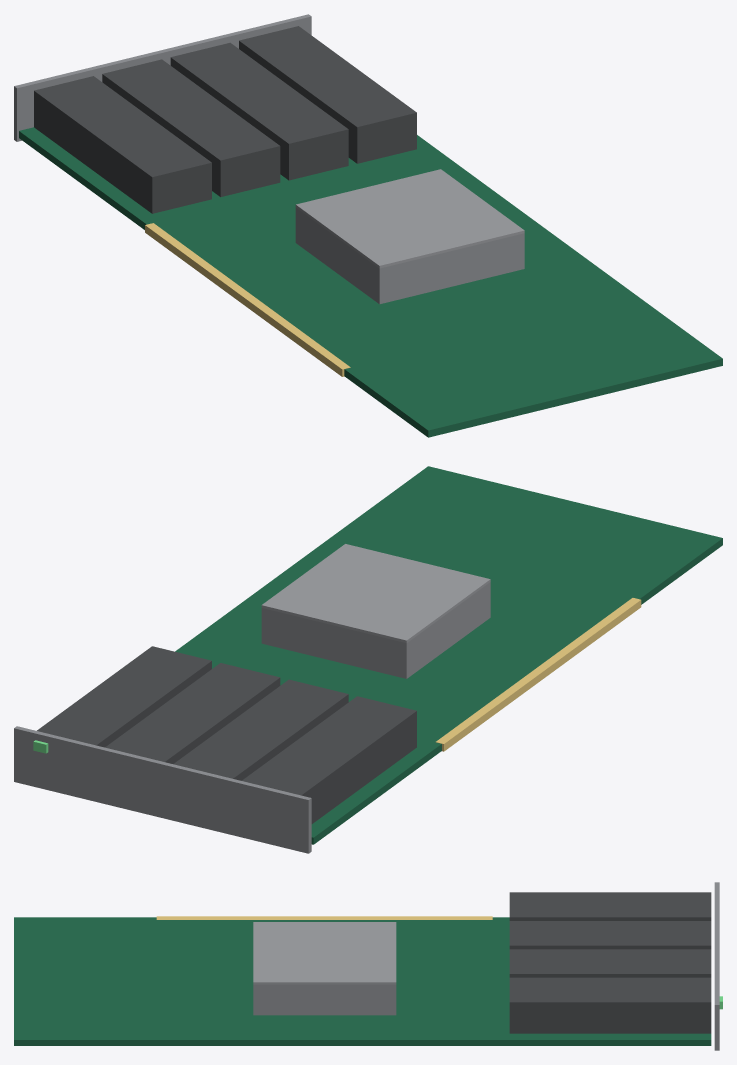
The model's file is card.glb.
The picture shows the model from 3 angles, top to bottom: view 1: azimuth 30°, elevation 25°; view 2: azimuth 150°, elevation 25°; view 3: azimuth 270°, elevation 25°; orthographic projection. The views are drawn at different scales.
Parts seen in each view (by area): view 1: Pcb, Port1, Accent, Port3, Port2, Port4, Heatsink, Bracket, Gold; view 2: Pcb, Bracket, Accent, Port1, Heatsink, Port2, Port3, Port4, Gold; view 3: Pcb, Port4, Accent, Port1, Port3, Port2, Heatsink, Gold, Bracket.
Boxes of the visible parts, x1,y1,x2,y2 form: Pcb: (19, 127, 722, 437); Port1: (34, 76, 211, 213); Accent: (295, 169, 524, 268); Port3: (170, 42, 348, 180); Port2: (102, 59, 280, 197); Port4: (239, 26, 416, 163); Heatsink: (295, 207, 524, 304); Bracket: (14, 14, 311, 141); Gold: (145, 223, 350, 376); Pcb: (175, 466, 722, 844); Bracket: (14, 726, 311, 853); Accent: (261, 544, 490, 643); Port1: (242, 696, 416, 823); Heatsink: (261, 582, 490, 678); Port2: (173, 679, 348, 780); Port3: (105, 663, 280, 763); Port4: (37, 646, 211, 747); Gold: (435, 598, 641, 751); Pcb: (14, 917, 711, 1045); Port4: (509, 977, 711, 1033); Accent: (253, 922, 396, 984); Port1: (509, 892, 711, 920); Port3: (509, 949, 711, 977); Port2: (509, 921, 711, 949); Heatsink: (253, 984, 396, 1015); Gold: (156, 916, 492, 919); Bracket: (714, 882, 719, 1050).
Bounding box in the file's own units: 0.0695 × 0.012 × 0.1688.
